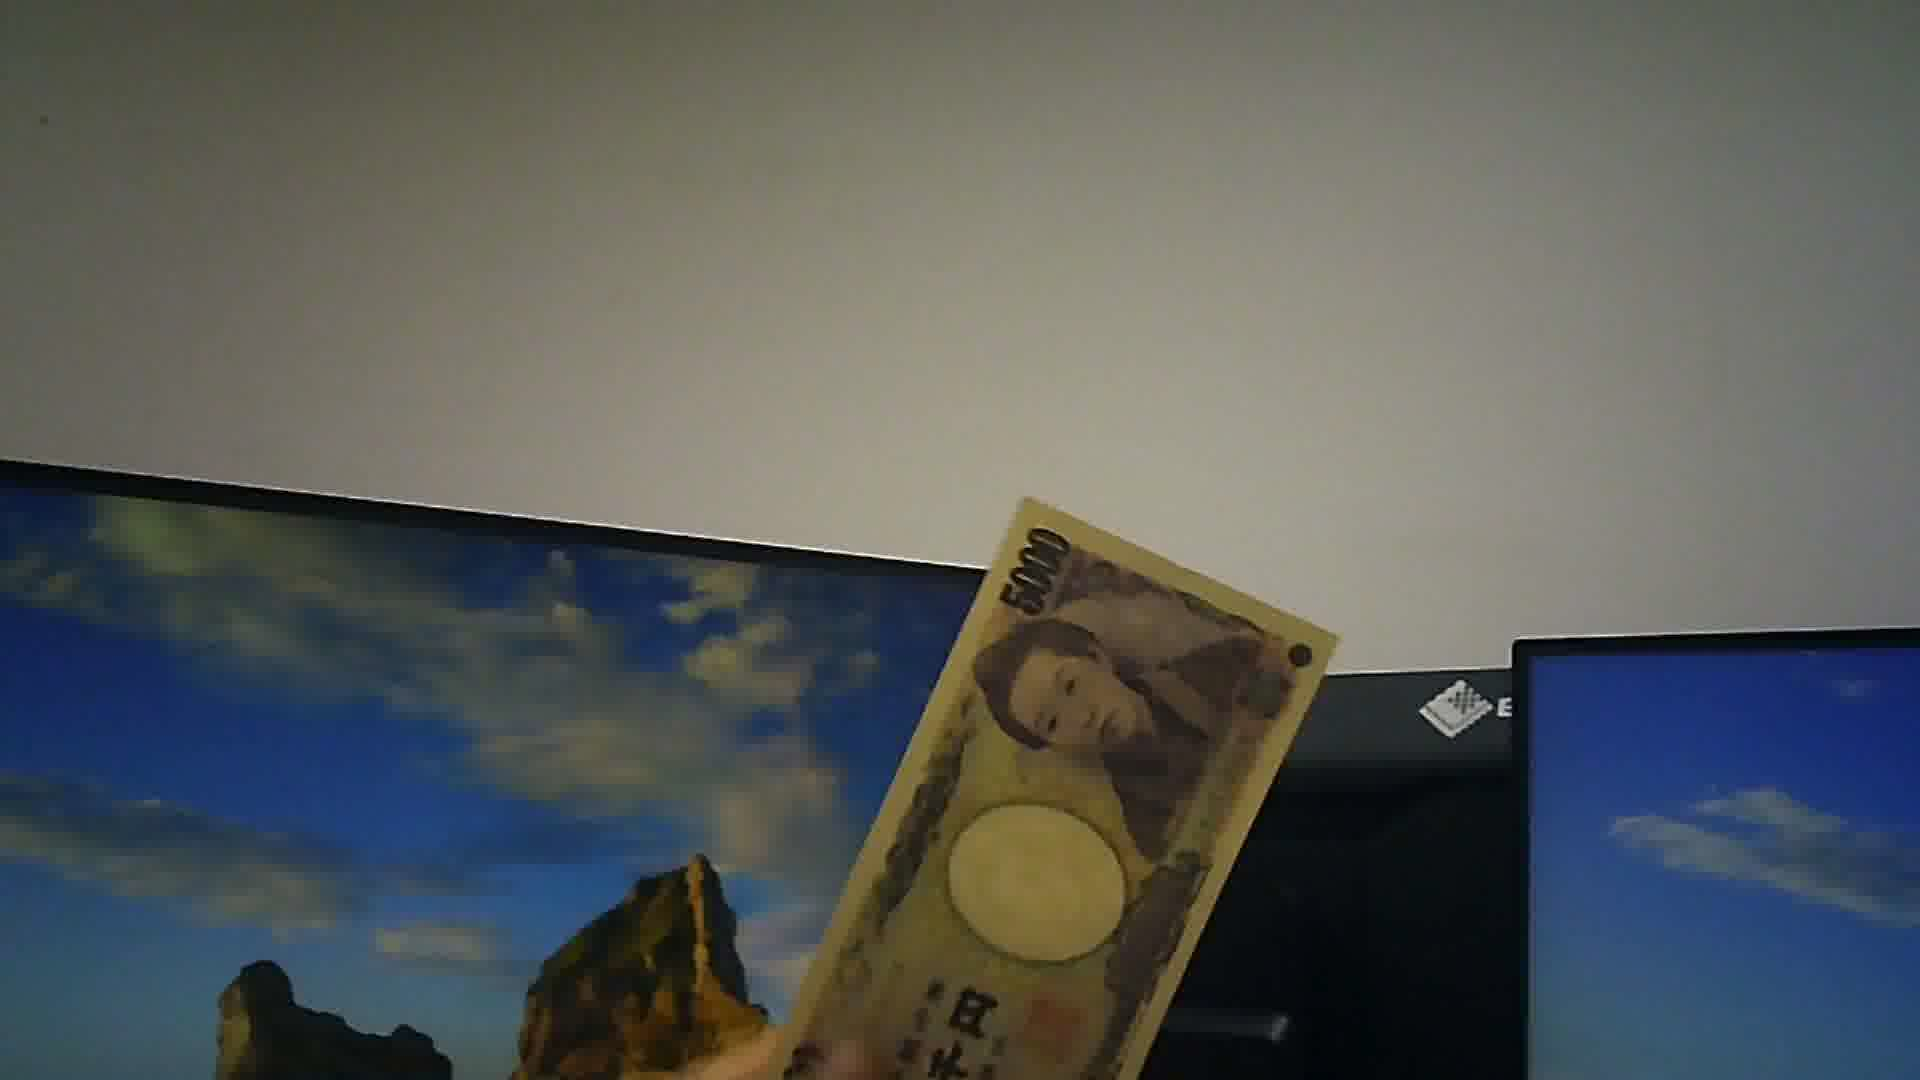5,000 Yen: (808, 465, 1357, 1079)
